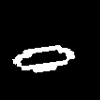chain: (12, 45, 74, 72)
